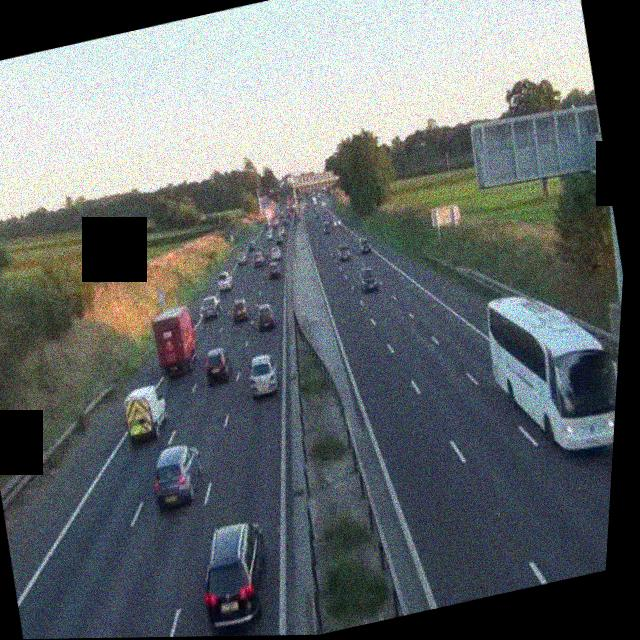bus: (471, 276, 623, 469)
car: (188, 516, 282, 631), (144, 440, 210, 512), (116, 381, 175, 445), (244, 352, 282, 399), (200, 343, 237, 386), (252, 303, 277, 332), (357, 263, 380, 294), (198, 294, 222, 321), (228, 296, 252, 323), (215, 270, 233, 291), (336, 242, 352, 262), (267, 260, 283, 279), (358, 237, 373, 255), (252, 251, 266, 270), (269, 238, 283, 255), (235, 249, 249, 265), (320, 220, 332, 234), (336, 219, 347, 232)
truck: (146, 301, 206, 377)
